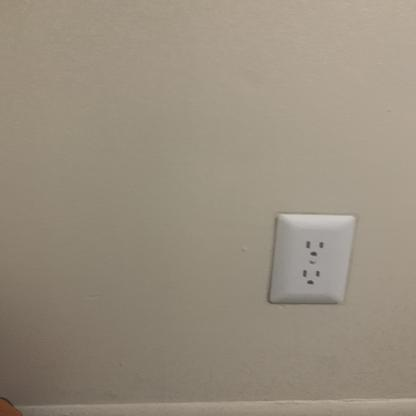OUTLET: (274, 214, 354, 302)
